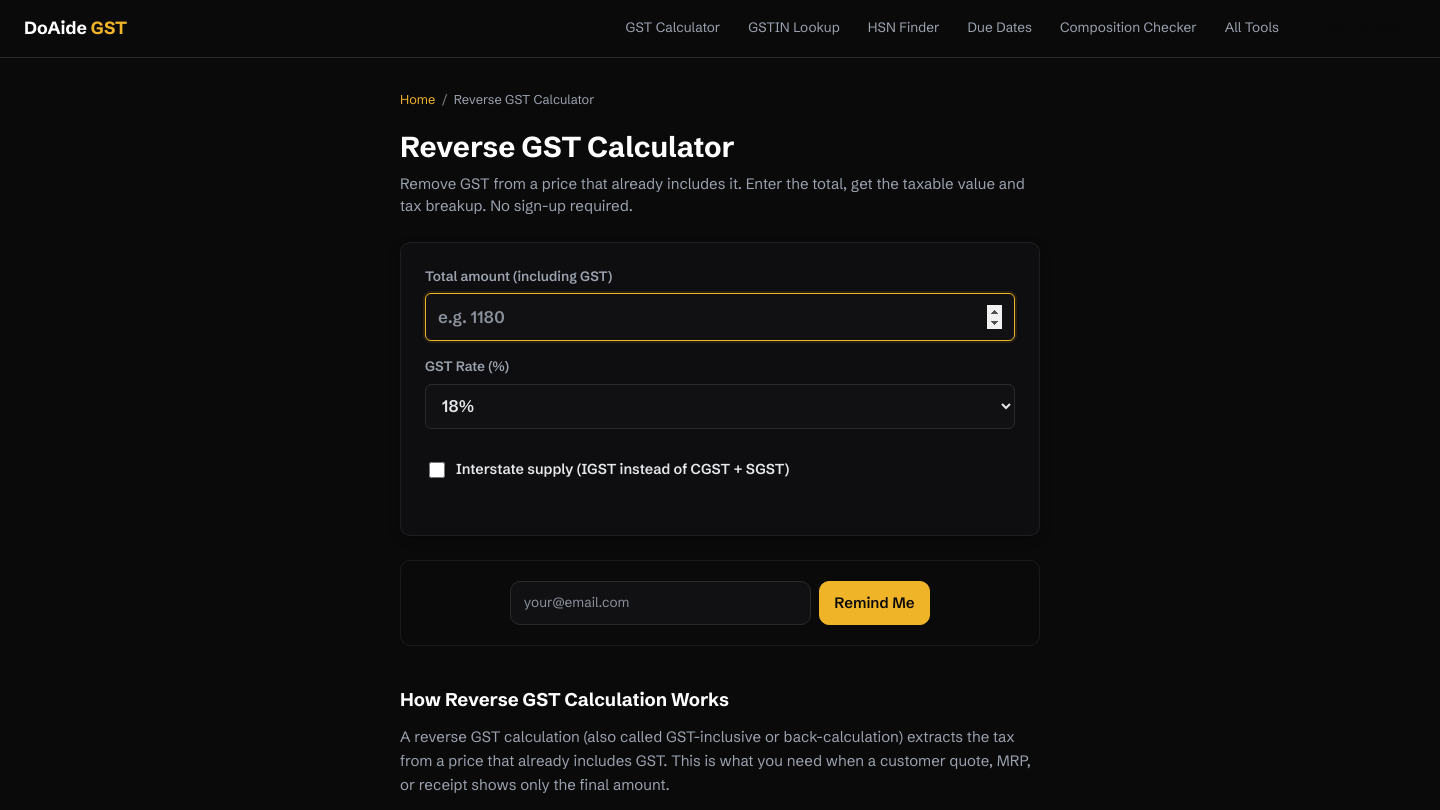
ReverseGstCalculatorPage › extracts 18% GST from an inclusive amount
The width and height of the screenshot is (1440, 810).
Type "1180" into the number field with placeholder "e.g. 1180" at (720, 317), box [425,293,1015,341]
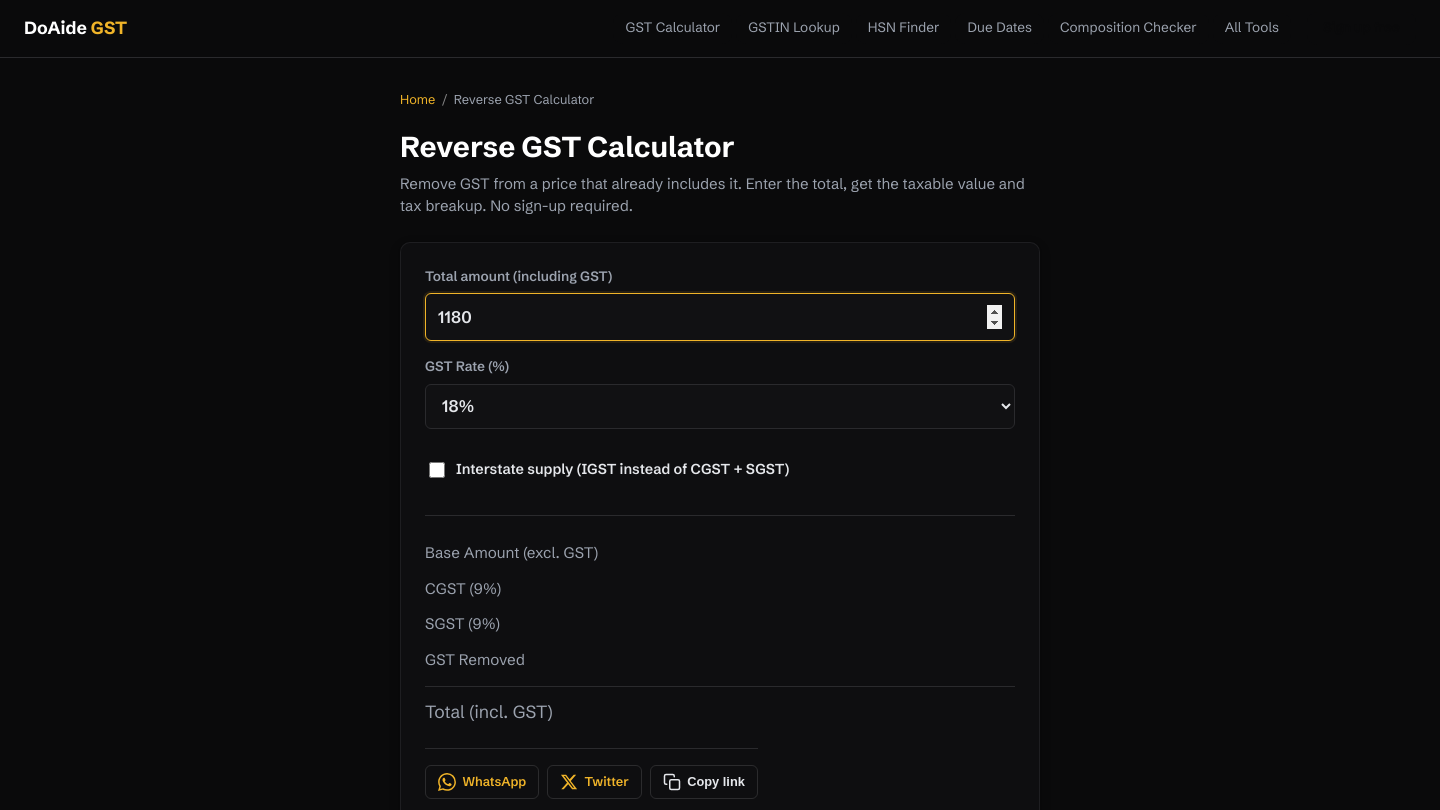
Expected: the text "Base Amount (excl. GST)" is shown, [425,542,598,565]
Expected: the text "CGST (9%)" is shown, [425,578,501,601]
Expected: the text "GST Removed" is shown, [425,649,525,672]
